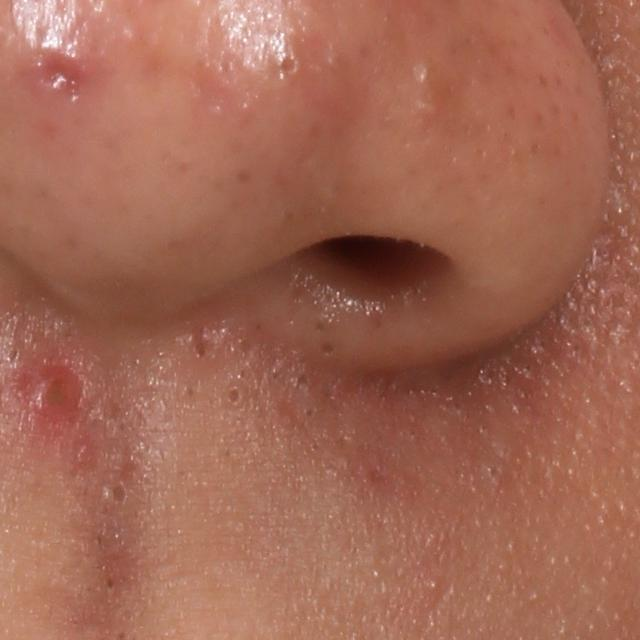comedo: (276, 49, 311, 84), (216, 380, 248, 412), (408, 65, 433, 92), (319, 339, 338, 357), (425, 575, 442, 592)
papule: (23, 364, 85, 425)
